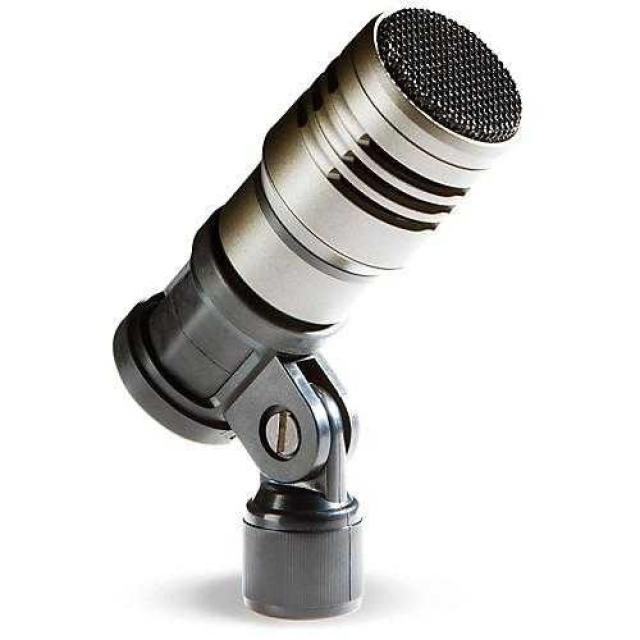microphone: (116, 0, 540, 470)
